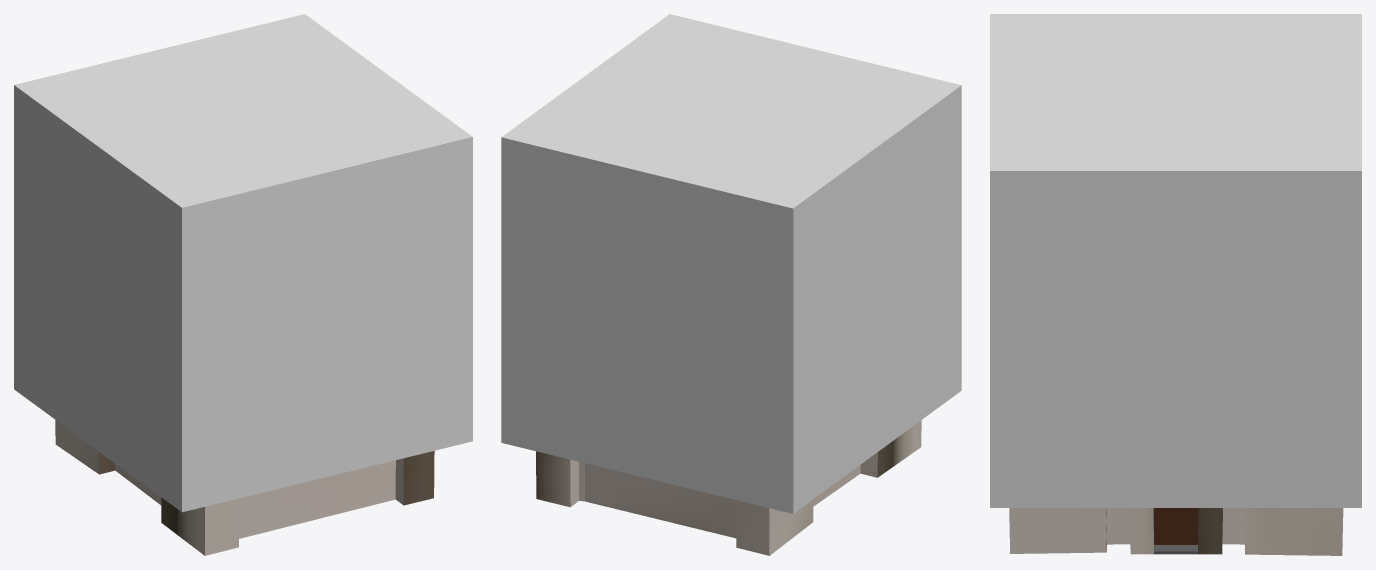
File: 3castle.fbx
The picture shows the model from 3 angles, left to right: view 1: azimuth 30°, elevation 25°; view 2: azimuth 150°, elevation 25°; view 3: azimuth 270°, elevation 25°; orthographic projection. The views are drawn at different scales.
Visible parts, largest first — view 1: Cube.003, Cube; view 2: Cube.003, Cube; view 3: Cube.003, Cube.
Part boxes in pixels (x1,y1,x2,y2): Cube.003: (14, 14, 472, 512); Cube: (55, 420, 434, 555); Cube.003: (501, 14, 961, 513); Cube: (536, 420, 921, 555); Cube.003: (990, 14, 1361, 507); Cube: (1009, 508, 1343, 555).
Size of the model in its own units: 1708 by 2032 by 1708.
